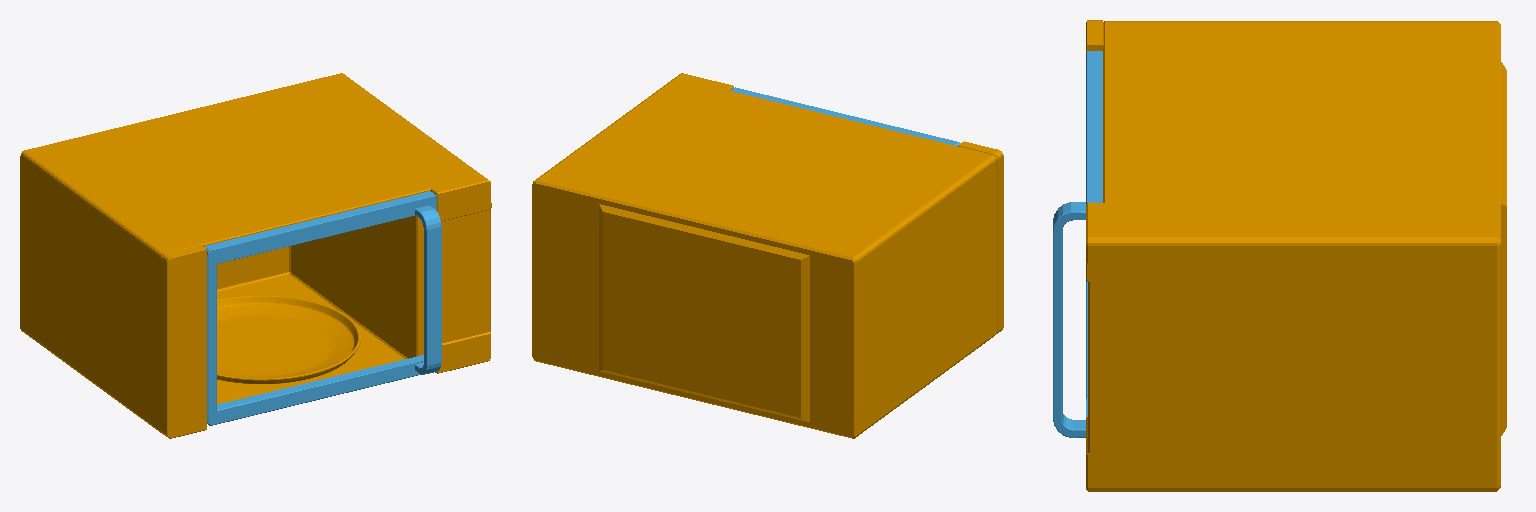
The robot description file, URDF, robot "microwave":
<?xml version='1.0' encoding='utf-8'?>
<robot name="microwave">
  <link name="base_link">
    <visual>
      <geometry>
        <mesh filename="microwave_meshes/visuals/body001.obj" />
      </geometry>
    </visual>
    <visual>
      <geometry>
        <mesh filename="microwave_meshes/visuals/disc001.obj" />
      </geometry>
    </visual>
    <collision name="panel_1">
      <origin xyz="0.26505053 -0.21284153 0.03140467" rpy="0 0 0" />
      <geometry>
        <box size="0.02873235568 0.00153959461 0.02668740414" />
      </geometry>
    </collision>
    <collision name="panel_2">
      <origin xyz="0.2086322 -0.21284153 0.03115159" rpy="0 0 0" />
      <geometry>
        <box size="0.02928545512 0.001539596124 0.0272242669" />
      </geometry>
    </collision>
    <collision name="panel_4">
      <origin xyz="0.00022452 0.21556661 0.1578075" rpy="0 0 0" />
      <geometry>
        <box size="0.5686757565 0.04776426405 0.3066753149" />
      </geometry>
    </collision>
    <collision name="panel_5">
      <origin xyz="-0.2426098 0.0096559 0.15957894" rpy="0 0 0" />
      <geometry>
        <box size="0.08300715685 0.4004042745 0.3031324148" />
      </geometry>
    </collision>
    <collision name="panel_6">
      <origin xyz="0.22390804 0.00897172 0.1592334" rpy="0 0 0" />
      <geometry>
        <box size="0.1213086396 0.398740232 0.3038235307" />
      </geometry>
    </collision>
    <collision name="panel_7">
      <origin xyz="-0.05128234 0.00906298 0.30546168" rpy="0 0 0" />
      <geometry>
        <box size="0.4565396607 0.39996171 0.01136689354" />
      </geometry>
    </collision>
    <collision name="panel_8">
      <origin xyz="-0.05162154 0.00064078 0.0137931" rpy="0 0 0" />
      <geometry>
        <box size="0.4565396607 0.3826844692 0.01260533556" />
      </geometry>
    </collision>
    <collision name="panel_9">
      <origin xyz="0.23655933 -0.19828415 0.15957242" rpy="0 0 0" />
      <geometry>
        <box size="0.09573103487 0.02458192222 0.30425933" />
      </geometry>
    </collision>
    <collision name="panel_10">
      <origin xyz="-0.04321811 0.2439125 0.15986707" rpy="0 0 0" />
      <geometry>
        <box size="0.4061338305 0.005308003165 0.2782975733" />
      </geometry>
    </collision>
    <collision name="panel_11">
      <origin xyz="0.23369126 0.01649758 0.00535239" rpy="0 0 0" />
      <geometry>
        <box size="0.04376407713 0.4161598682 0.01070507243" />
      </geometry>
    </collision>
    <collision name="panel_12">
      <origin xyz="-0.22992377 0.01649758 0.00535239" rpy="0 0 0" />
      <geometry>
        <box size="0.04376407713 0.4161598682 0.01070508547" />
      </geometry>
    </collision>
    <collision name="panel_13">
      <origin xyz="-0.25150034 -0.20093538 0.15977833" rpy="0 0 0" />
      <geometry>
        <box size="0.06548012793 0.01851522736 0.3035314381" />
      </geometry>
    </collision>
  </link>
  <link name="door_link">
    <visual>
      <geometry>
        <mesh filename="microwave_meshes/visuals/door.obj" />
      </geometry>
    </visual>
    <visual>
      <geometry>
        <mesh filename="microwave_meshes/visuals/door_clear.obj" />
      </geometry>
    </visual>
    <visual>
      <origin xyz="0.36714828 -0.04112494 -0.00791978" rpy="0 0 0" />
      <geometry>
        <mesh filename="microwave_meshes/visuals/graspable_handle.obj" />
      </geometry>
      <material name="graspable_handle_color">
        <color rgba="0.16 0.16 0.16 1" />
      </material>
    </visual>
    <collision name="panel_1">
      <origin xyz="0.20020828 -0.00049879 -0.00467451" rpy="0 0 0" />
      <geometry>
        <box size="0.3848841488 0.01898146234 0.2966700196" />
      </geometry>
    </collision>
    <collision name="panel_2">
      <origin xyz="0.20031509 0.00170258 -0.00496642" rpy="0 0 0" />
      <geometry>
        <box size="0.3852010965 0.01003638934 0.2557241917" />
      </geometry>
    </collision>
    <collision name="graspable_handle_bar_1">
      <origin xyz="0.36714828 -0.04112494 -0.00791978" rpy="0 0 0" />
      <geometry>
        <box size="0.0427214792 0.0176706668 0.2121379077" />
      </geometry>
    </collision>
    <collision name="panel_4">
      <origin xyz="0.36719951 -0.0373517 0.11538098" rpy="-0.472675879 0 0" />
      <geometry>
        <box size="0.02762471698 0.01318601239 0.02551749162" />
      </geometry>
    </collision>
    <collision name="panel_5">
      <origin xyz="0.36719951 -0.02160068 0.12343851" rpy="0 0 0" />
      <geometry>
        <box size="0.02762471698 0.02580399066 0.01374934614" />
      </geometry>
    </collision>
    <collision name="panel_6">
      <origin xyz="0.36719951 -0.0350724 -0.13135589" rpy="-2.609574342 0 0" />
      <geometry>
        <box size="0.02762471698 0.01318601333 0.02551749162" />
      </geometry>
    </collision>
    <collision name="panel_7">
      <origin xyz="0.36719951 -0.02160068 -0.13654478" rpy="0 0 0" />
      <geometry>
        <box size="0.02762471698 0.02580399066 0.013749348" />
      </geometry>
    </collision>
    <collision name="panel_8">
      <origin xyz="0.20020828 -0.00780287 -0.00467451" rpy="0 0 0" />
      <geometry>
        <box size="0.3848853707 0.004373441916 0.2966707647" />
      </geometry>
    </collision>
    <inertial>
      <origin xyz="0.18 0 0" rpy="0 0 0" />
      <mass value="1.2" />
      <inertia ixx="0.009" iyy="0.024" izz="0.016" ixy="0" ixz="0" iyz="0" />
    </inertial>
  </link>
  <joint name="door_joint" type="revolute">
    <origin xyz="-0.20478417 -0.20020254 0.16524366" rpy="0 0 0" />
    <parent link="base_link" />
    <child link="door_link" />
    <axis xyz="0 0 1" />
    <limit lower="-1.57079633" upper="0" effort="20" velocity="1.5" />
    <dynamics damping="1.0" friction="1.0" />
  </joint>
</robot>

--- Facts derived from the render (not from the file) ---
Views: 3 orthographic renders of the robot side by side, from view 1: azimuth 30°, elevation 25°; view 2: azimuth 150°, elevation 25°; view 3: azimuth 270°, elevation 25°.
Robot: microwave — 2 links, 1 joints (1 revolute); root link base_link; default pose: every joint at zero.
Links seen in each view (by area): view 1: base_link, door_link; view 2: base_link, door_link; view 3: base_link, door_link.
Boxes of the visible links, x1=… form: base_link: x1=20, y1=73, x2=491, y2=438; door_link: x1=205, y1=191, x2=441, y2=425; base_link: x1=532, y1=73, x2=1003, y2=438; door_link: x1=730, y1=87, x2=960, y2=145; base_link: x1=1086, y1=20, x2=1506, y2=491; door_link: x1=1053, y1=51, x2=1102, y2=437.
Bounding box of the posed robot: 0.5691 × 0.4931 × 0.3117 m (x, y, z).
3 mesh visuals loaded from 5 distinct referenced files (3 OBJ); not drawn: 2 (reference not matched to a file when rendering).
